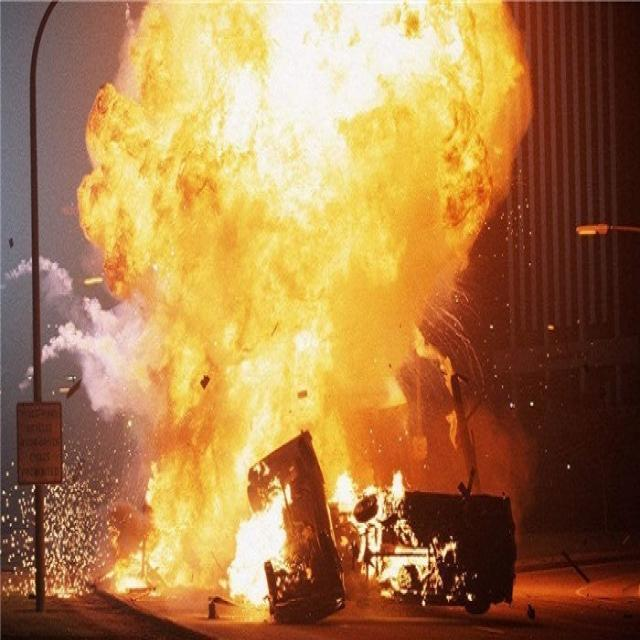fire: (76, 5, 534, 602)
